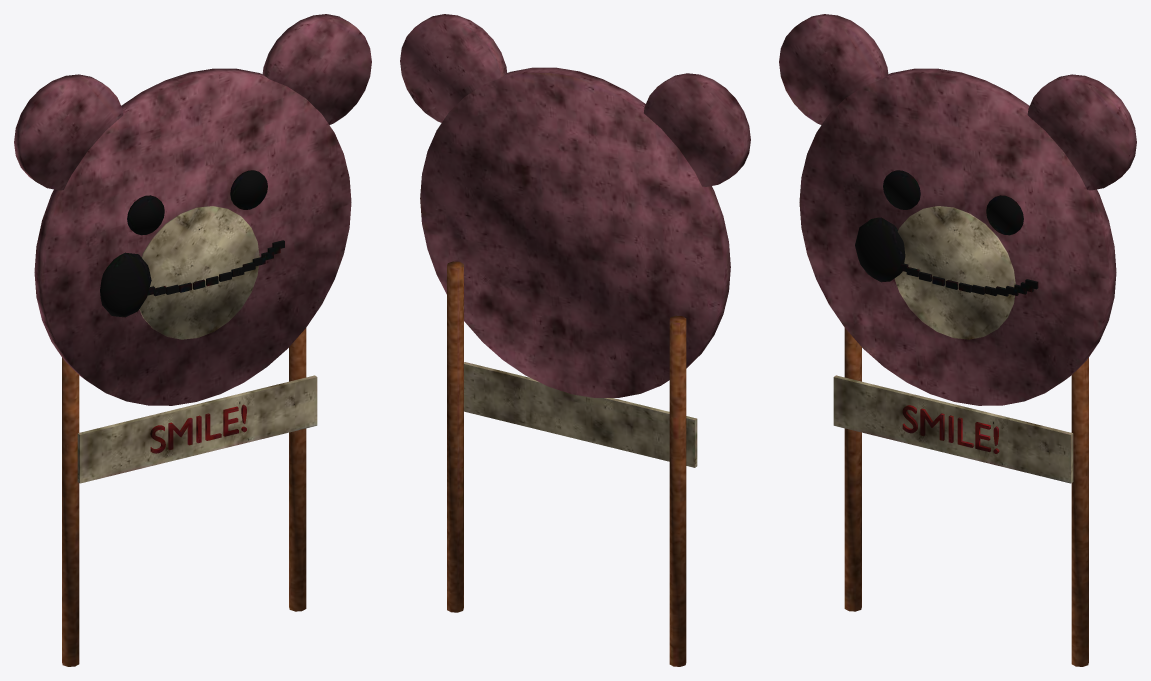
Rendered from billboard.glb.
3 views of the same model, side by side, from view 1: azimuth 30°, elevation 25°; view 2: azimuth 150°, elevation 25°; view 3: azimuth 330°, elevation 25° (orthographic). The views are drawn at different scales.
Visible parts, largest first — view 1: Main; view 2: Main; view 3: Main.
Part boxes in pixels (left/top/right/bottom): Main: left=14, top=14, right=371, bottom=666; Main: left=400, top=14, right=750, bottom=666; Main: left=779, top=14, right=1136, bottom=666.
Size of the model in its own units: 6.8 by 11 by 0.8.
Materials: 1 (1 with a texture image).
